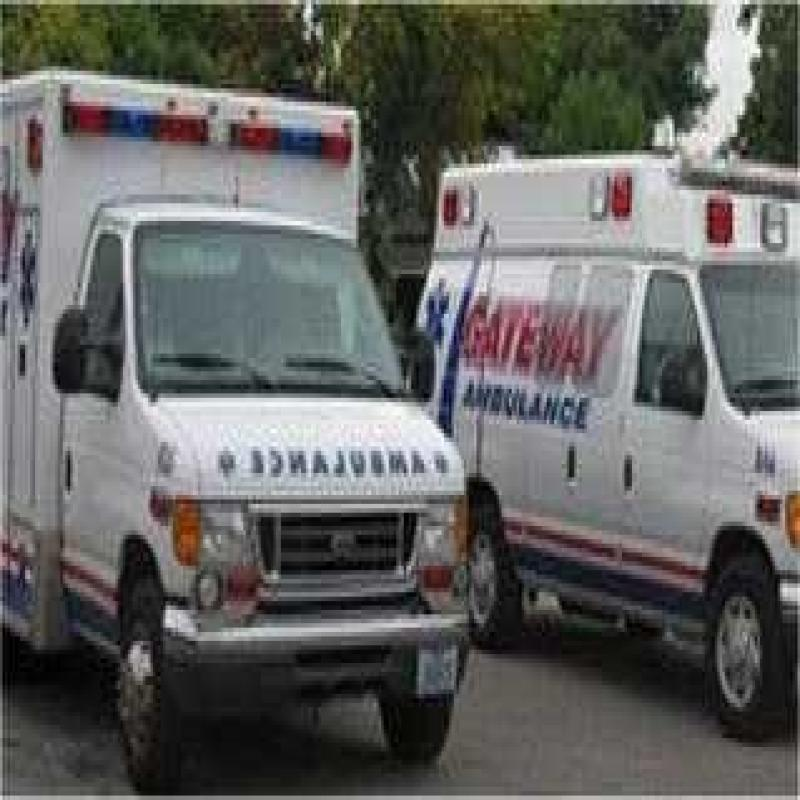AmbulanceSiren: (62, 80, 360, 186)
